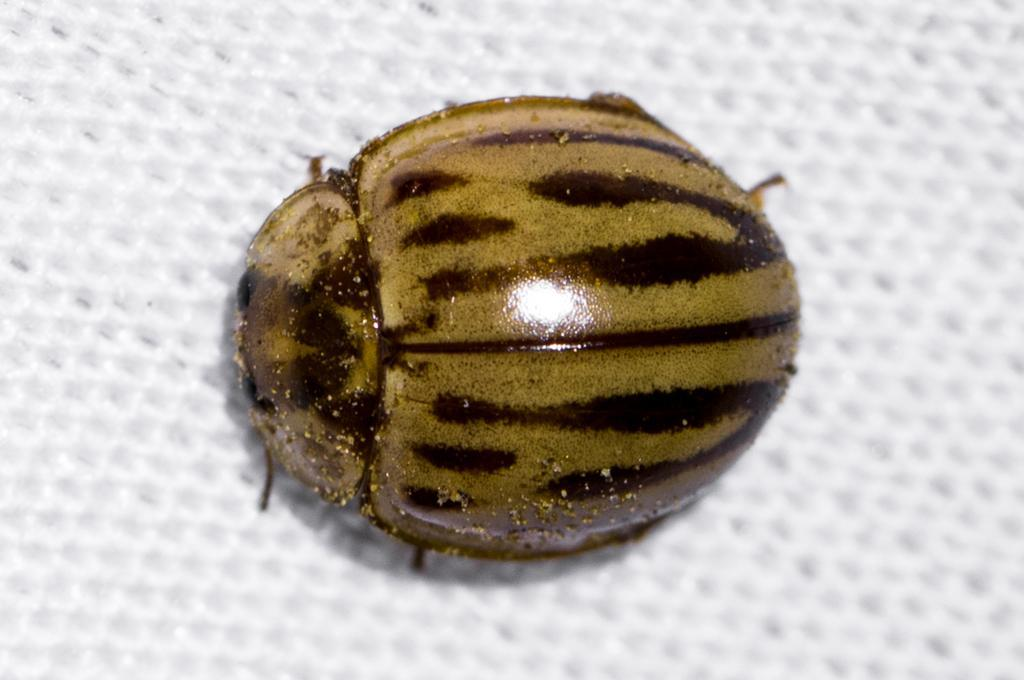ladybug: (233, 91, 805, 575)
